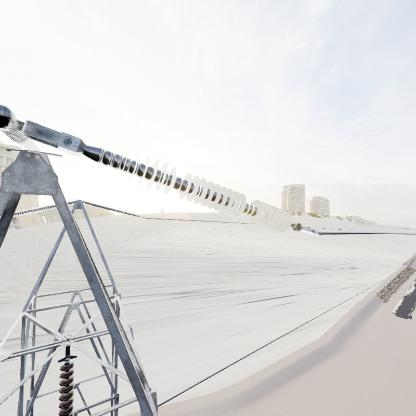insulator: (94, 138, 300, 230)
